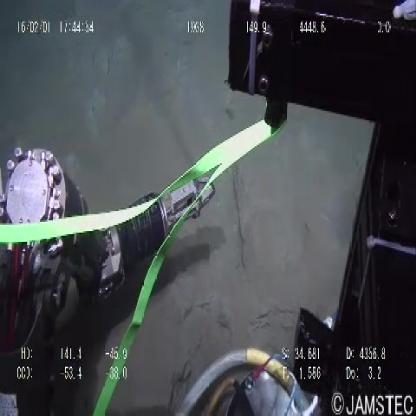Rov: (225, 1, 415, 416), (1, 140, 227, 376)
